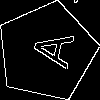A: (21, 26, 75, 69)
